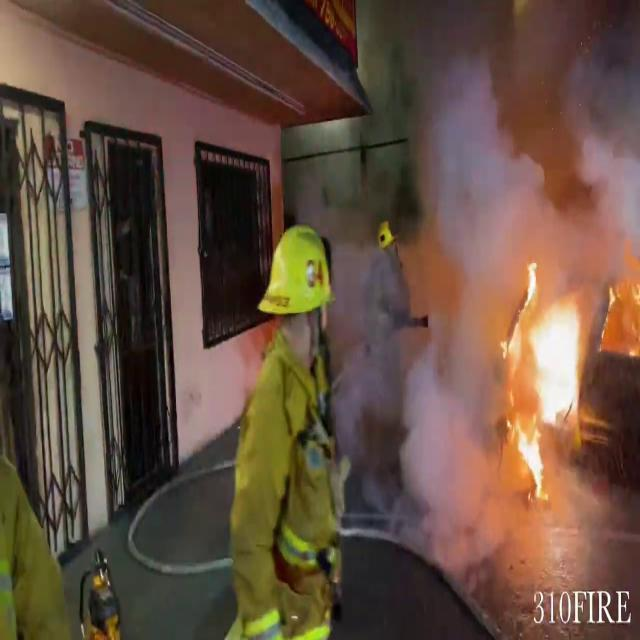Fire: (494, 248, 640, 494), (494, 260, 592, 494)
Smoke: (362, 0, 640, 271), (331, 234, 489, 545)
